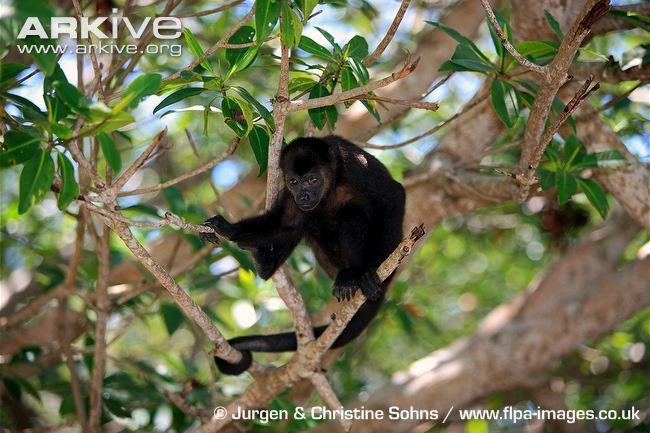monkey: (206, 136, 406, 411)
